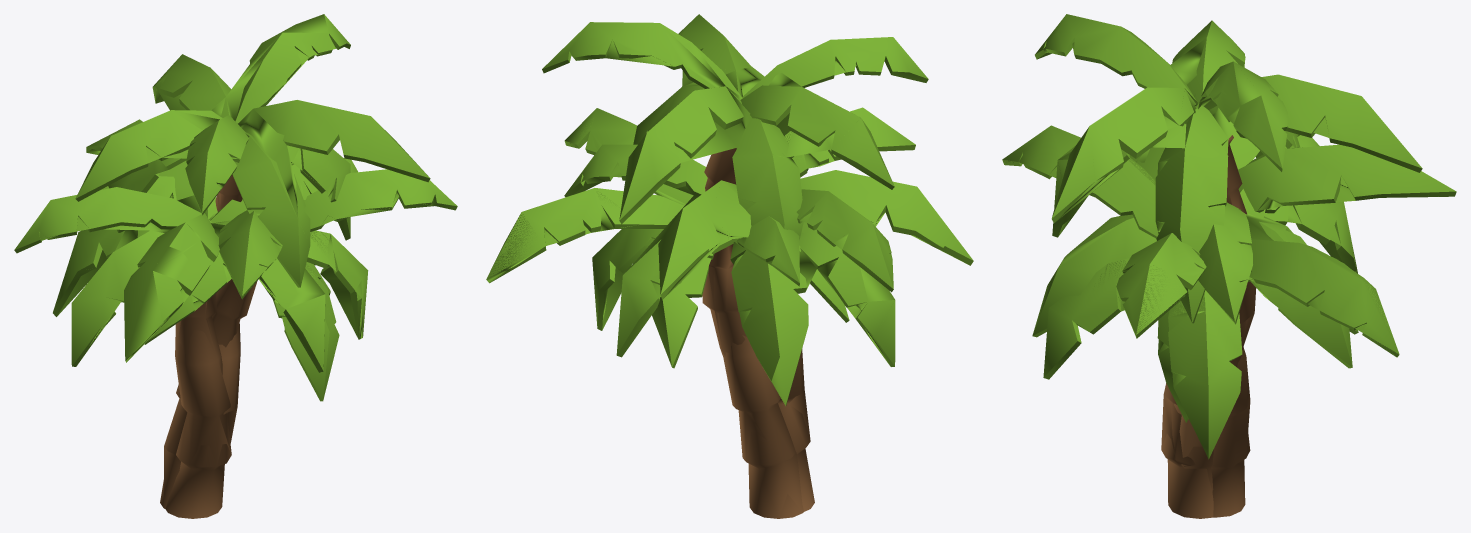
The model's file is palmeras.glb.
3 renders of one model, left to right at view 1: azimuth 30°, elevation 25°; view 2: azimuth 150°, elevation 25°; view 3: azimuth 270°, elevation 25°, orthographic. The views are drawn at different scales.
Parts seen in each view (by area): view 1: Environment_PalmTree_1, Environment_PalmTree_3, Environment_PalmTree_2, Environment_PalmTree_3__lejos, Environment_PalmTree_1__lejos, Environment_PalmTree_2__lejos; view 2: Environment_PalmTree_1, Environment_PalmTree_3, Environment_PalmTree_2, Environment_PalmTree_1__lejos, Environment_PalmTree_3__lejos, Environment_PalmTree_2__lejos; view 3: Environment_PalmTree_1, Environment_PalmTree_2, Environment_PalmTree_3, Environment_PalmTree_1__lejos, Environment_PalmTree_3__lejos, Environment_PalmTree_2__lejos.
Boxes of the visible parts, x1,y1,x2,y2 form: Environment_PalmTree_1: [75, 14, 430, 414]; Environment_PalmTree_3: [14, 119, 357, 518]; Environment_PalmTree_2: [101, 162, 457, 508]; Environment_PalmTree_3__lejos: [39, 149, 330, 509]; Environment_PalmTree_1__lejos: [146, 14, 335, 443]; Environment_PalmTree_2__lejos: [163, 192, 434, 507]; Environment_PalmTree_1: [542, 14, 928, 356]; Environment_PalmTree_3: [564, 144, 973, 511]; Environment_PalmTree_2: [486, 107, 915, 518]; Environment_PalmTree_1__lejos: [593, 22, 860, 349]; Environment_PalmTree_3__lejos: [581, 164, 967, 440]; Environment_PalmTree_2__lejos: [486, 111, 913, 518]; Environment_PalmTree_1: [1035, 14, 1422, 491]; Environment_PalmTree_2: [1002, 125, 1399, 517]; Environment_PalmTree_3: [1032, 131, 1456, 518]; Environment_PalmTree_1__lejos: [1043, 34, 1329, 465]; Environment_PalmTree_3__lejos: [1058, 149, 1366, 458]; Environment_PalmTree_2__lejos: [1004, 155, 1398, 457].
Size of the model in its own units: 3.23 by 3.59 by 2.95.
Materials: 1 (1 with a texture image).
